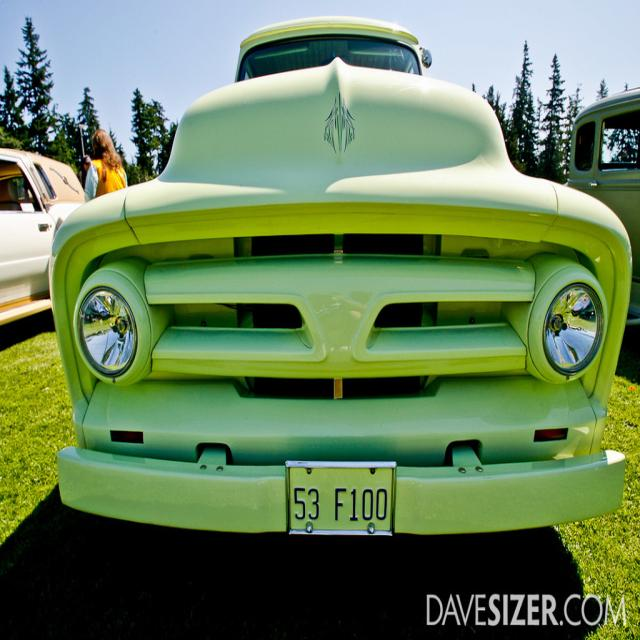car: (36, 34, 631, 563)
